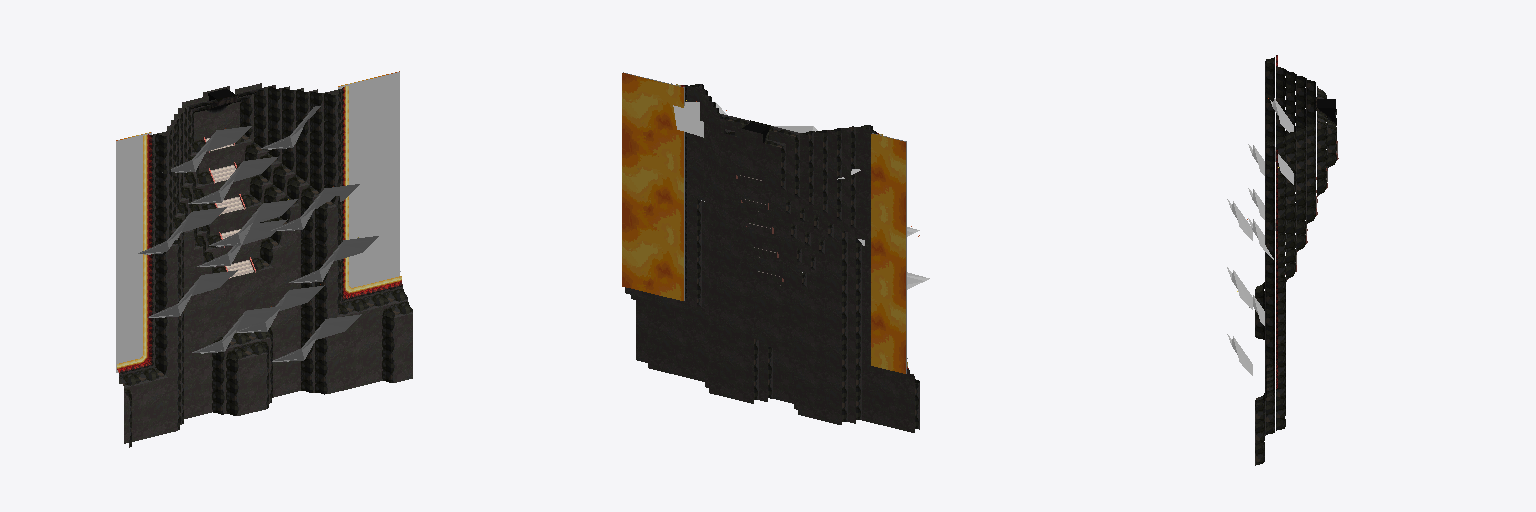
The picture shows the model from 3 angles: view 1: azimuth 30°, elevation 25°; view 2: azimuth 150°, elevation 25°; view 3: azimuth 270°, elevation 25°; orthographic projection.
Parts seen in each view (by area): view 1: map; view 2: map; view 3: map.
Part boxes in pixels (x1,y1,x2,y2): map: (116,71,412,447); map: (622,72,929,432); map: (1227,55,1338,465).
Bounding box in the file's own units: 32.59 × 32 × 11.41.
16 materials, 12 textured.